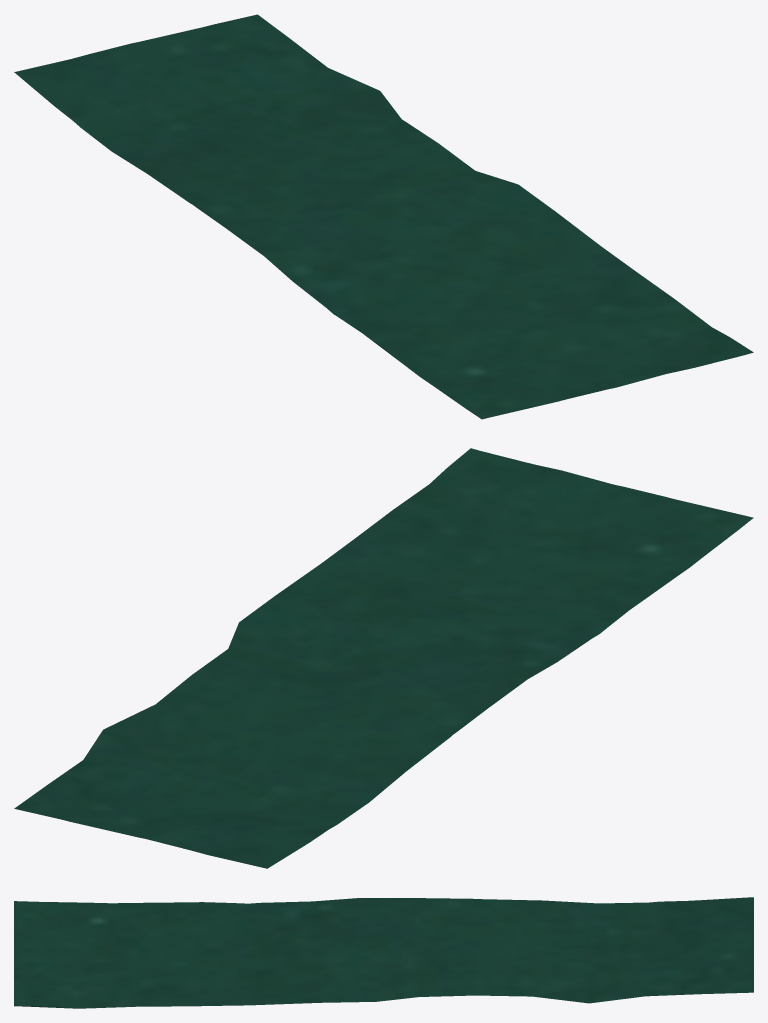
3 views of the same model, one above another, from view 1: azimuth 30°, elevation 25°; view 2: azimuth 150°, elevation 25°; view 3: azimuth 270°, elevation 25° (orthographic). The views are drawn at different scales.
Bounding box in the file's own units: 17.55 × 0.5575 × 52.22.
Materials: 1 (1 with a texture image).
